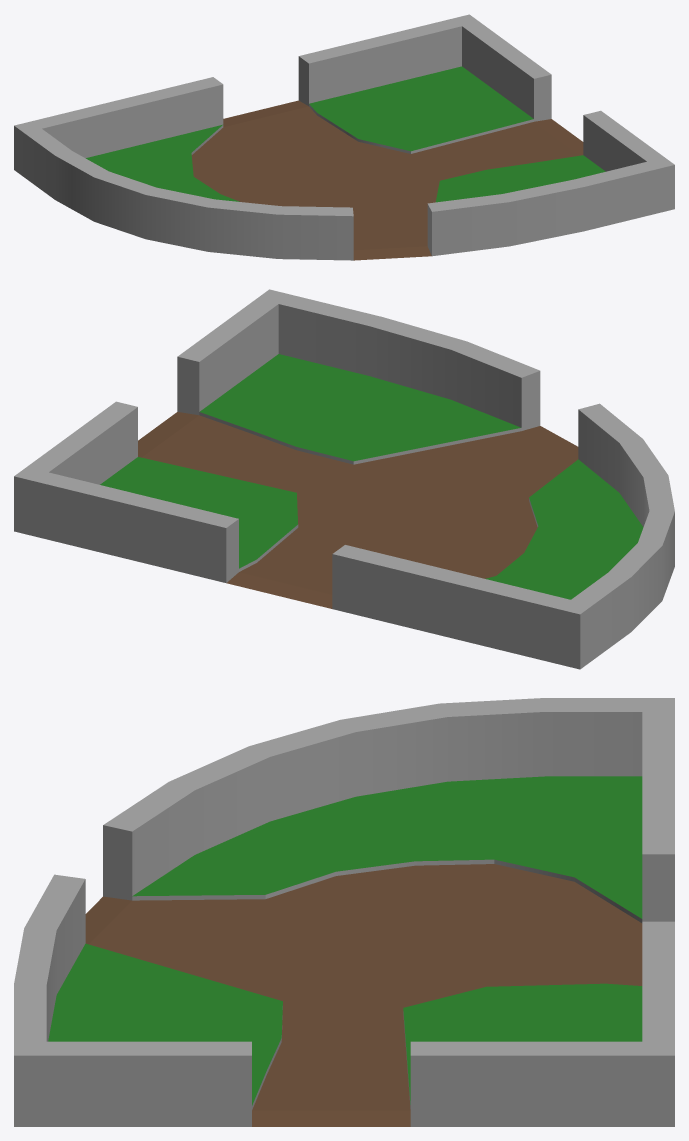
Rendered from parc.fbx.
3 renders of one model, top to bottom at view 1: azimuth 30°, elevation 25°; view 2: azimuth 150°, elevation 25°; view 3: azimuth 270°, elevation 25°, orthographic. The views are drawn at different scales.
Parts seen in each view (by area): view 1: parc; view 2: parc; view 3: parc.
Boxes of the visible parts, box(x1,y1,x2,y2) form: parc: box(14, 14, 674, 260); parc: box(14, 289, 674, 669); parc: box(14, 698, 674, 1126).
Bounding box in the file's own units: 1600 × 149 × 1250.
